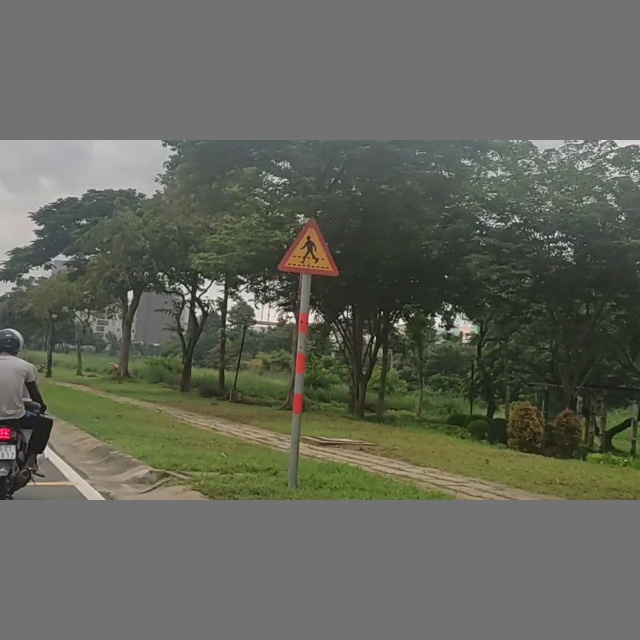W.224: (278, 217, 339, 276)
